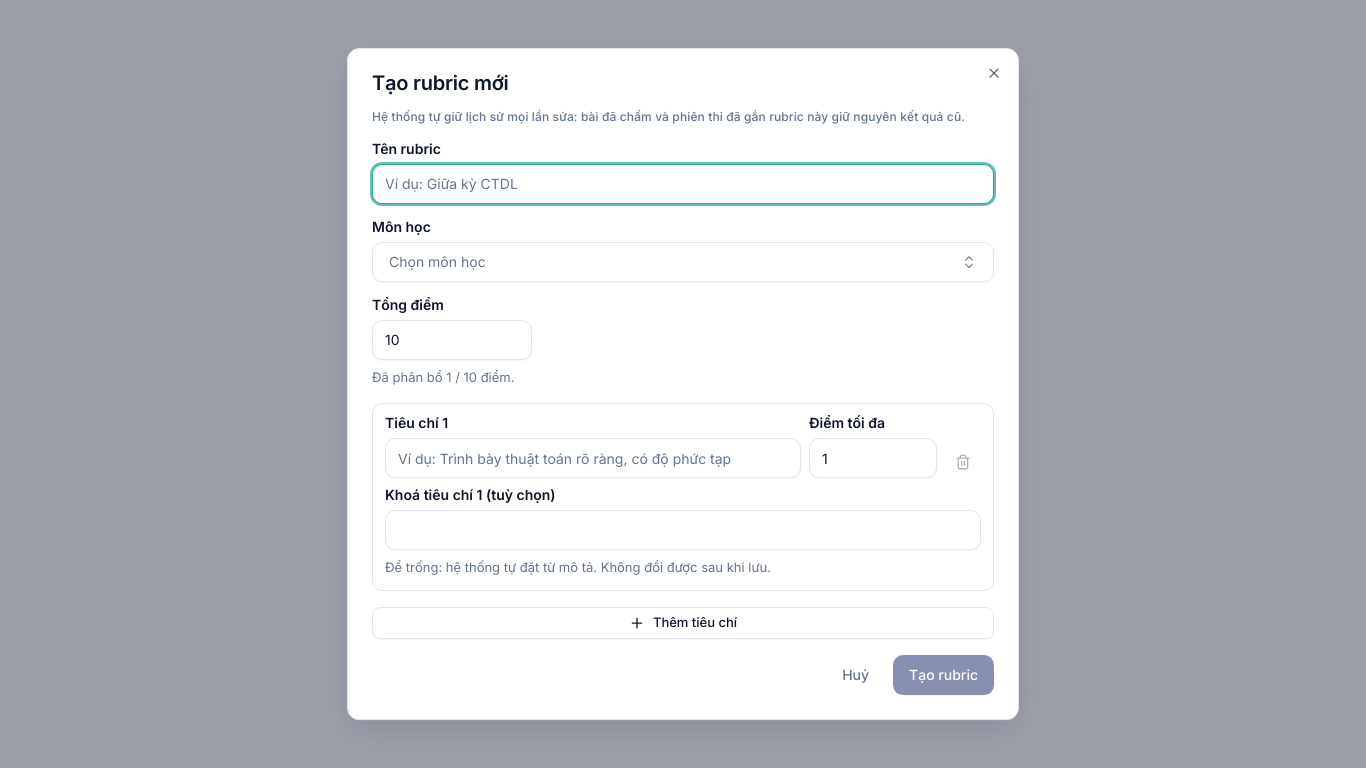
Scenario: RubricDialog — tạo rubric mới › chưa có rubric nào (tạo trống) › ô môn học gõ để lọc và chọn
Click the dropdown labelled "Chọn môn học" at {"x": 437, "y": 262}, box [372,242,994,282]
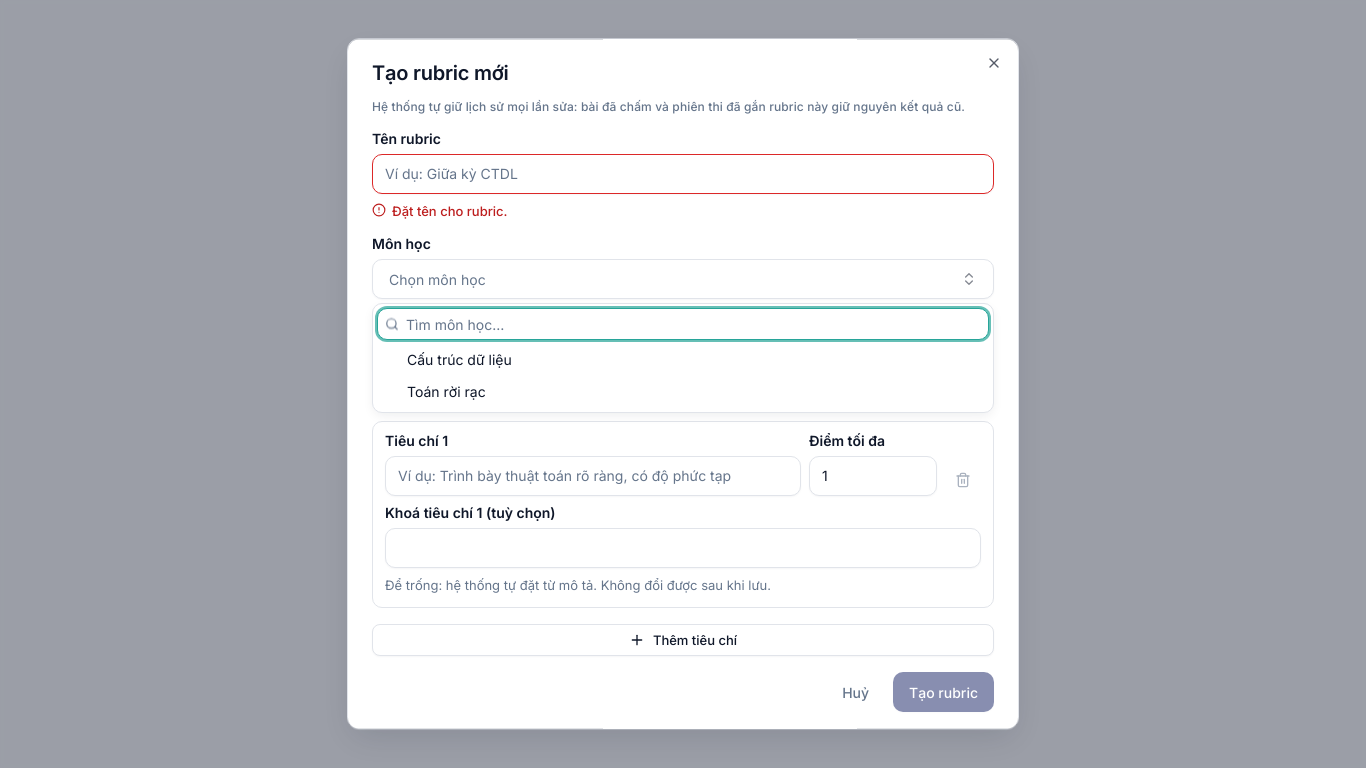
Now the option "Cấu trúc dữ liệu" is shown, box [377,345,989,377]
Now the option "Toán rời rạc" is shown, box [377,377,989,409]
Type "toán" into the field with placeholder "Tìm môn học…" at {"x": 683, "y": 325}, box [377,309,989,341]
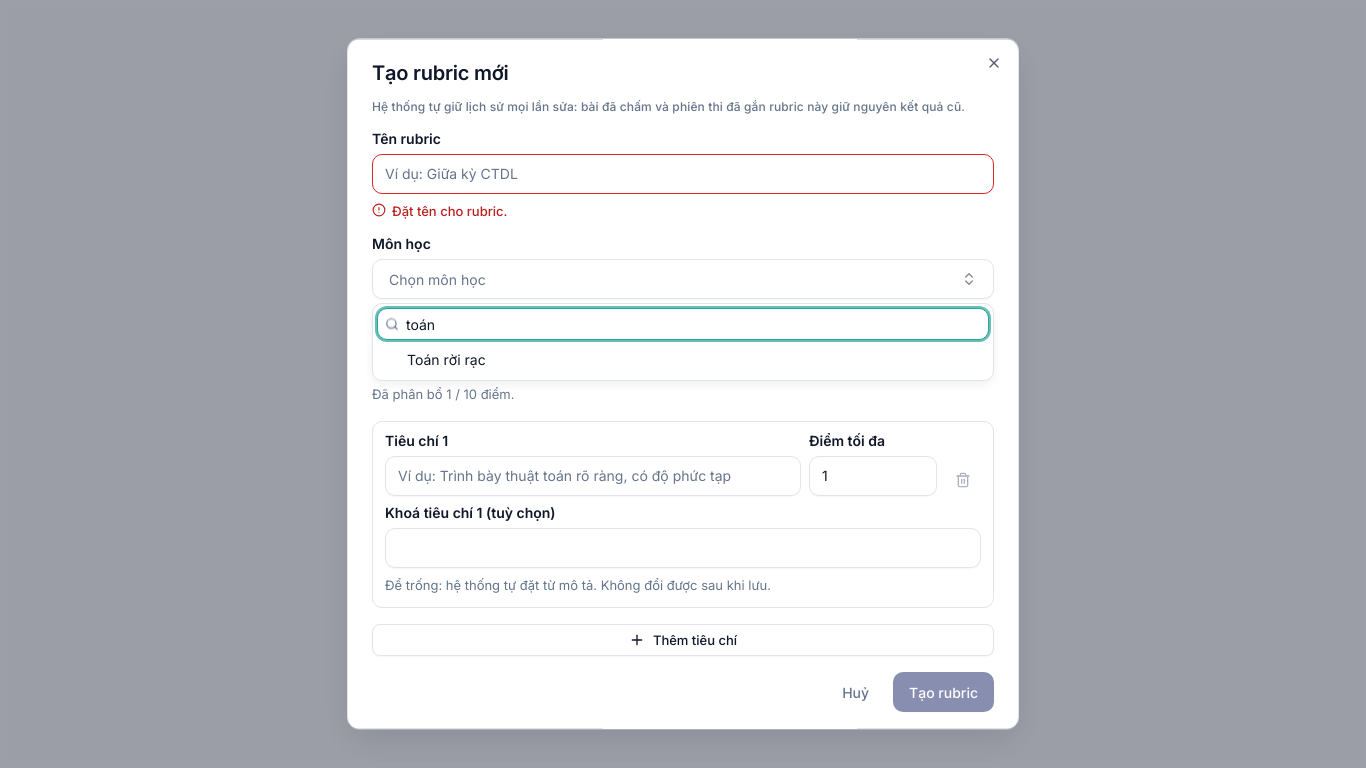
Now the option "Cấu trúc dữ liệu" is gone
Click the option "Toán rời rạc" at {"x": 446, "y": 360}, box [377,345,989,377]
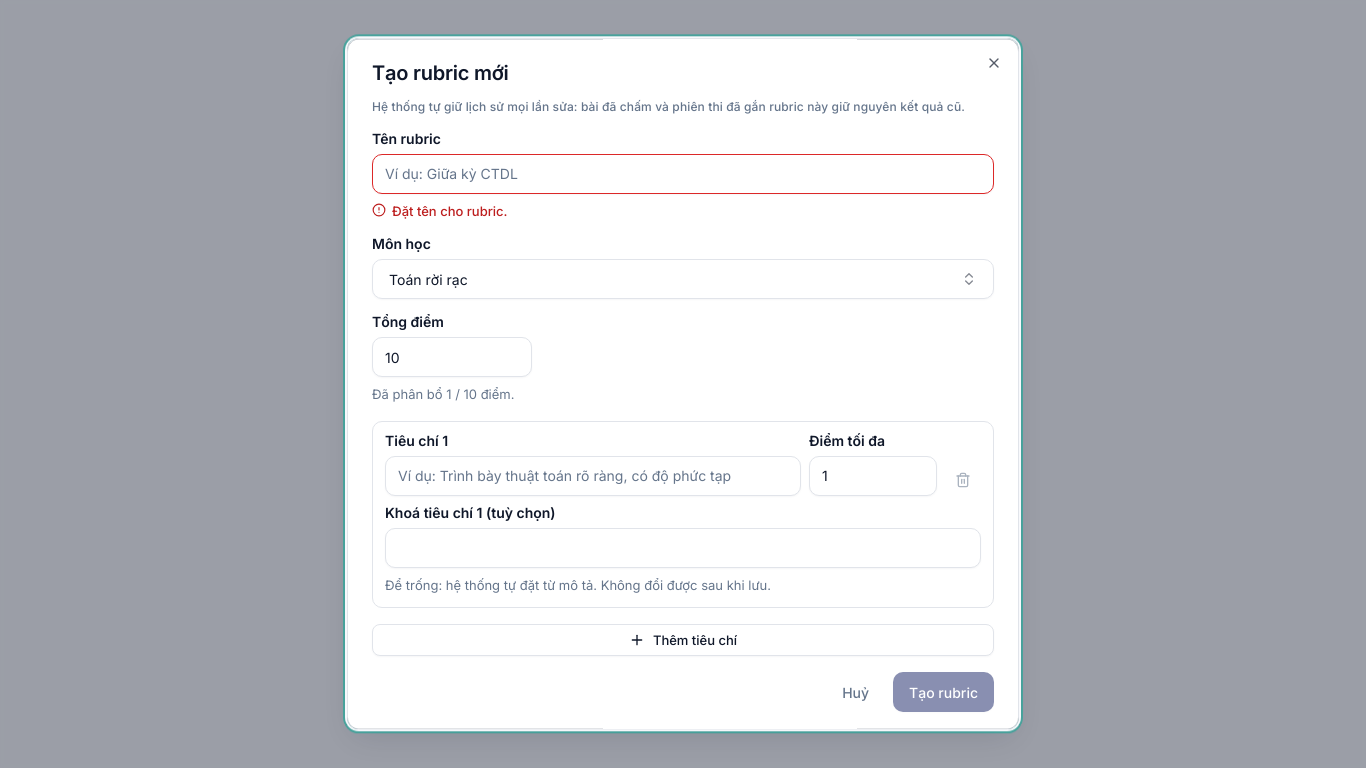
Now the dropdown named "Chọn môn học" reads "Toán rời rạc", box [372,260,994,300]
